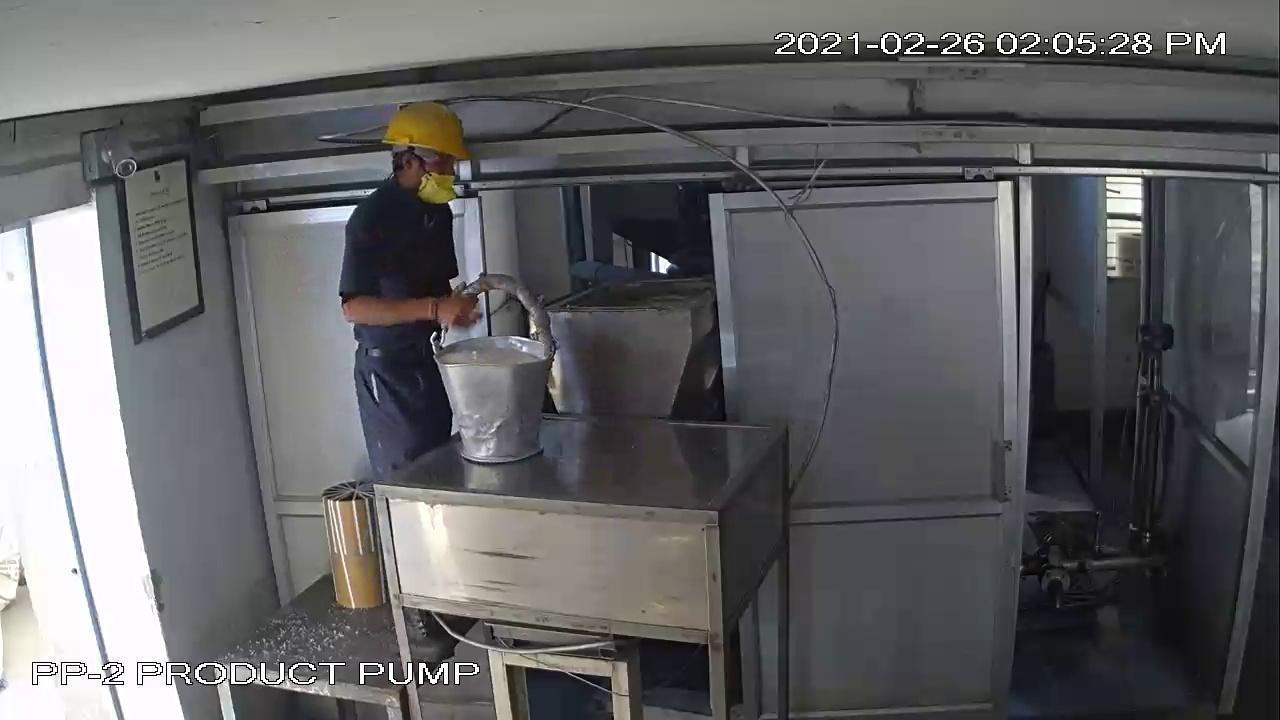helmet: (371, 92, 478, 173)
